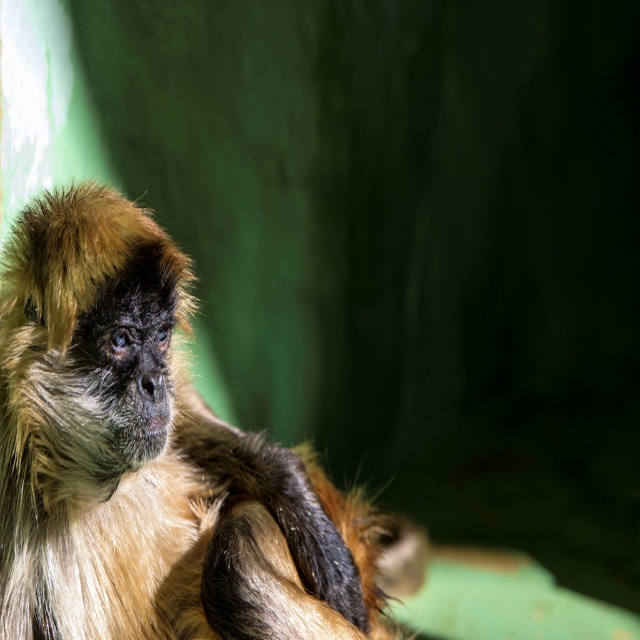Monkey: (0, 177, 423, 639)
